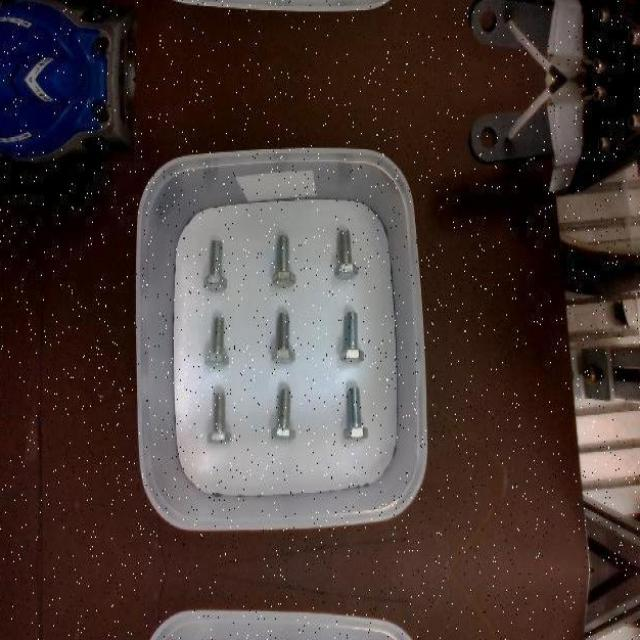screw: (204, 315, 229, 368), (203, 240, 228, 292), (334, 229, 359, 280), (340, 310, 365, 361), (344, 387, 369, 438), (207, 392, 232, 442), (272, 312, 296, 363), (271, 387, 295, 438), (272, 235, 295, 288)
